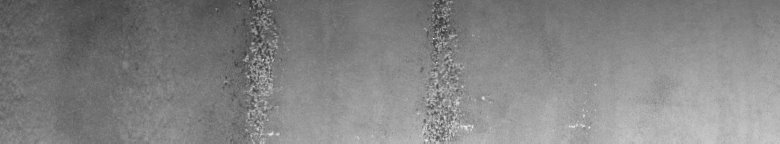hc: (420, 4, 485, 136)
